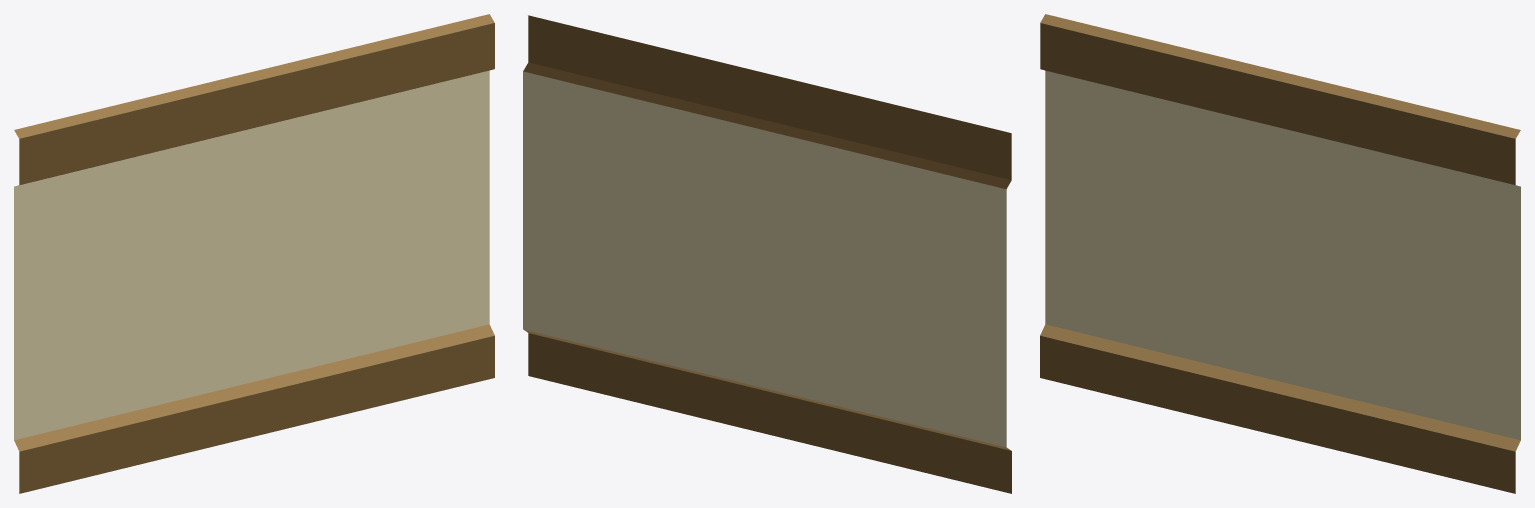
Rendered from Itr_Wall_Half_Base_01.FBX.
3 renders of one model, left to right at view 1: azimuth 30°, elevation 25°; view 2: azimuth 150°, elevation 25°; view 3: azimuth 330°, elevation 25°, orthographic.
Parts seen in each view (by area): view 1: Itr_Halfwall_Base_01; view 2: Itr_Halfwall_Base_01; view 3: Itr_Halfwall_Base_01.
Part boxes in pixels (box(x1,y1,x2,y2)): Itr_Halfwall_Base_01: box(14, 14, 494, 493); Itr_Halfwall_Base_01: box(523, 15, 1011, 493); Itr_Halfwall_Base_01: box(1040, 14, 1520, 493).
Bounding box in the file's own units: 59.06 × 42.73 × 1.14.
